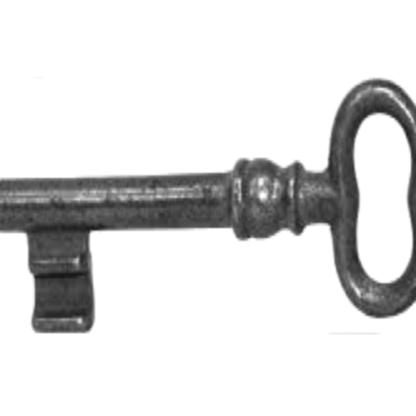key: (0, 78, 416, 333)
